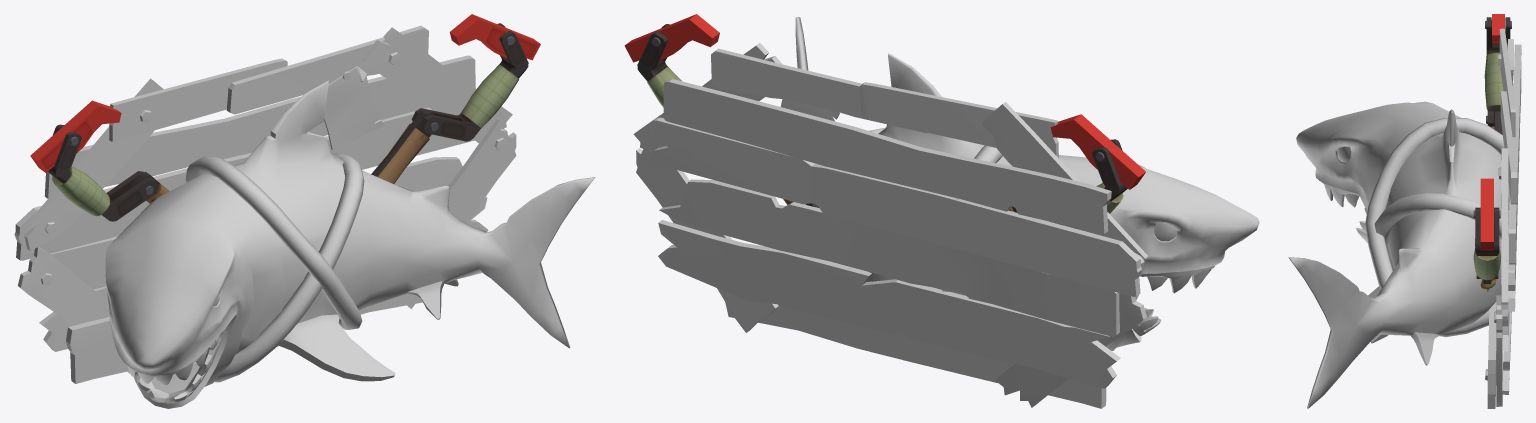
The model's file is obj_interactive_raftshark_on.fbx.
3 views of the same model, side by side, from view 1: azimuth 30°, elevation 25°; view 2: azimuth 150°, elevation 25°; view 3: azimuth 270°, elevation 25° (orthographic). The views are drawn at different scales.
Visible parts, largest first — view 1: Shark_on; view 2: Shark_on; view 3: Shark_on.
Part boxes in pixels (x1,y1,x2,y2): Shark_on: [14, 14, 595, 408]; Shark_on: [624, 14, 1259, 408]; Shark_on: [1288, 14, 1521, 408].
Bounding box in the file's own units: 7.25 × 3.98 × 3.21.
